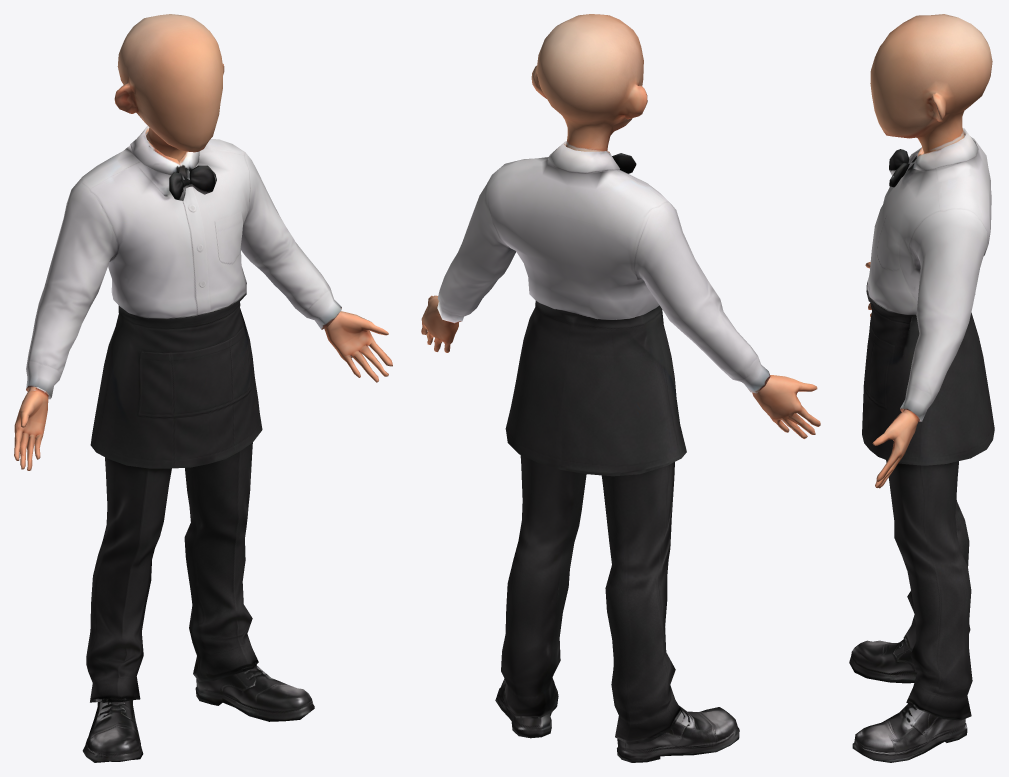
3 renders of one model, left to right at view 1: azimuth 30°, elevation 25°; view 2: azimuth 150°, elevation 25°; view 3: azimuth 270°, elevation 25°, orthographic. The views are drawn at different scales.
Visible parts, largest first — view 1: tripo_node_1d689125-360d-4862-9162-18b4274a8915; view 2: tripo_node_1d689125-360d-4862-9162-18b4274a8915; view 3: tripo_node_1d689125-360d-4862-9162-18b4274a8915.
Boxes of the visible parts, x1,y1,x2,y2 form: tripo_node_1d689125-360d-4862-9162-18b4274a8915: (14,14,392,762); tripo_node_1d689125-360d-4862-9162-18b4274a8915: (421,14,820,762); tripo_node_1d689125-360d-4862-9162-18b4274a8915: (849,14,994,762).
Size of the model in its own units: 0.5762 by 1 by 0.1922.
Materials: 1 (1 with a texture image).
